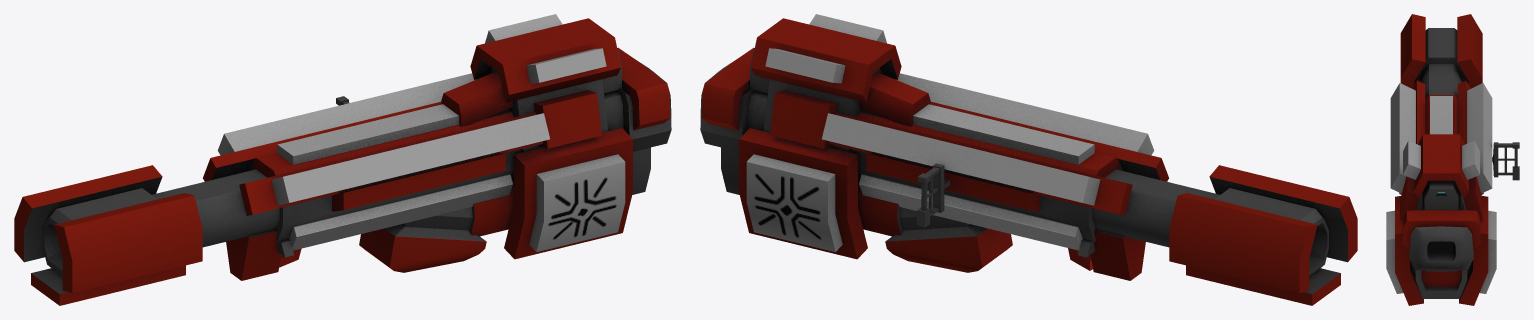
Rendered from robotmainrobotgunrocket.fbx.
The picture shows the model from 3 angles, left to right: view 1: azimuth 30°, elevation 25°; view 2: azimuth 150°, elevation 25°; view 3: azimuth 270°, elevation 25°; orthographic projection. The views are drawn at different scales.
Visible parts, largest first — view 1: Cube.142; view 2: Cube.142; view 3: Cube.142.
Part boxes in pixels (x1,y1,x2,y2): Cube.142: (14,14,671,305); Cube.142: (700,14,1357,305); Cube.142: (1386,14,1519,305).
Bounding box in the file's own units: 4.25 × 1.26 × 1.13.
